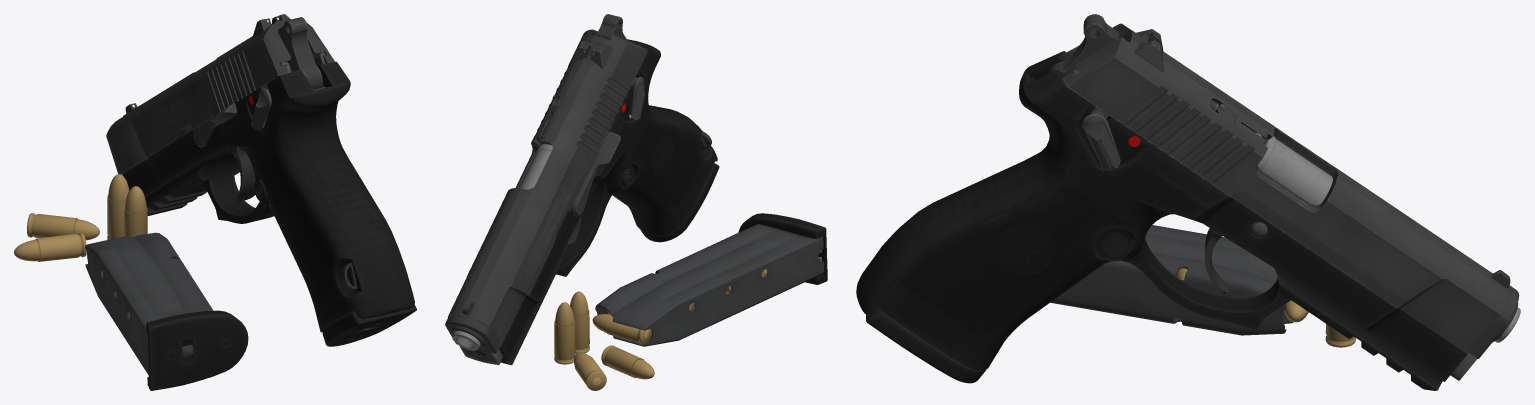
3 views of the same model, side by side, from view 1: azimuth 30°, elevation 25°; view 2: azimuth 150°, elevation 25°; view 3: azimuth 270°, elevation 25° (orthographic). The views are drawn at different scales.
Parts seen in each view (by area): view 1: qsz_92g, qsz_92g_mag1, bullets, qsz_92g_mag; view 2: qsz_92g, qsz_92g_mag1, bullets, qsz_92g_mag1_bullets, qsz_92g_mag; view 3: qsz_92g, qsz_92g_mag1, qsz_92g_mag.
Part boxes in pixels (x1,y1,x2,y2): qsz_92g: [106, 14, 414, 332]; qsz_92g_mag1: [85, 232, 248, 390]; bullets: [14, 174, 147, 261]; qsz_92g_mag: [322, 305, 416, 346]; qsz_92g: [445, 14, 717, 365]; qsz_92g_mag1: [595, 213, 827, 346]; bullets: [554, 291, 654, 390]; qsz_92g_mag1_bullets: [592, 269, 767, 343]; qsz_92g_mag: [641, 163, 719, 242]; qsz_92g: [856, 14, 1520, 390]; qsz_92g_mag1: [1050, 225, 1307, 335]; qsz_92g_mag: [866, 308, 985, 383].
Bounding box in the file's own units: 5.85 × 7 × 11.69.
Materials: 2 (2 with a texture image).
